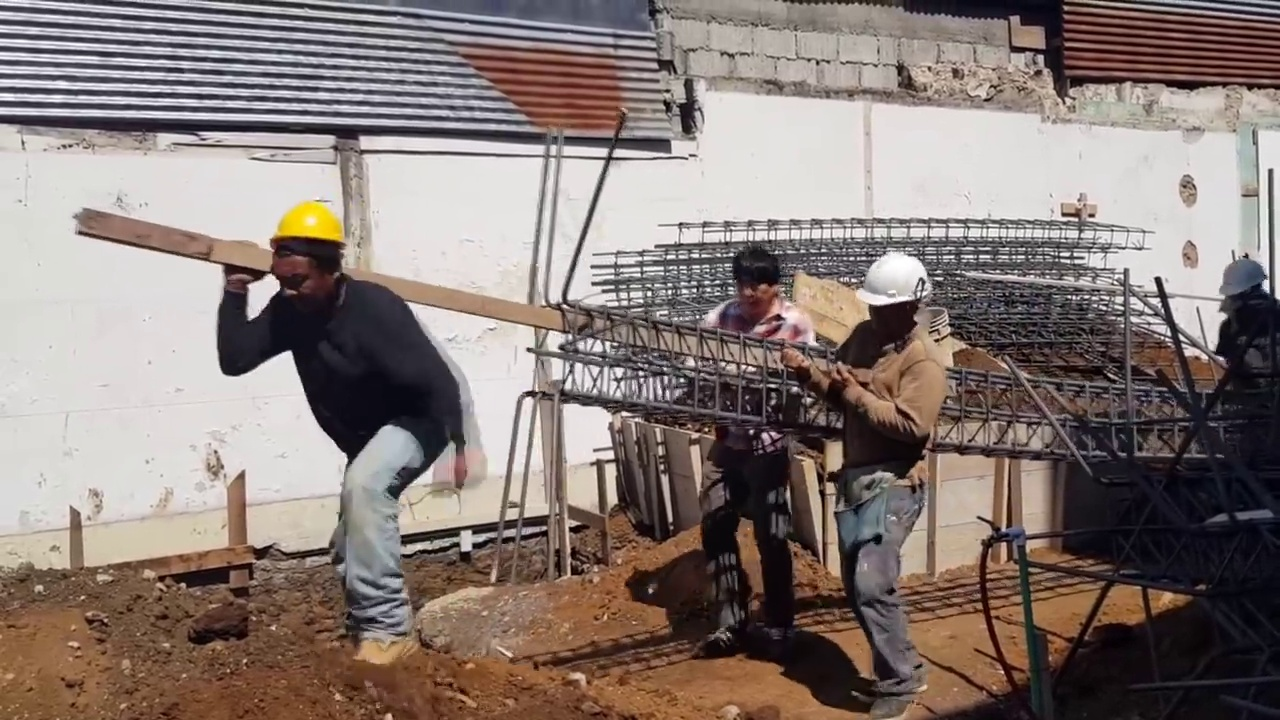helmet: (264, 194, 350, 260), (855, 252, 932, 306), (1218, 256, 1270, 294)
helmet-off: (727, 245, 783, 317)
helmet-on: (260, 201, 345, 312), (857, 249, 940, 341), (1216, 253, 1272, 320)
person: (234, 194, 487, 674), (785, 254, 951, 710), (689, 251, 805, 665), (1205, 256, 1273, 457)
